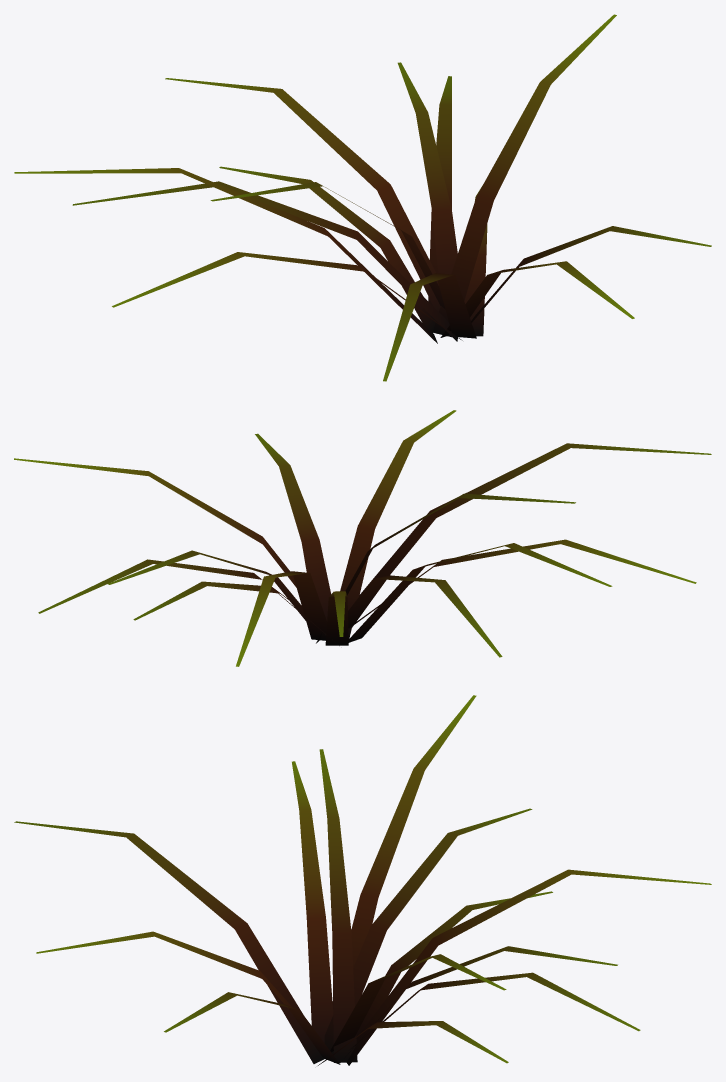
Rendered from grass_tuft_b.glb.
3 renders of one model, top to bottom at view 1: azimuth 30°, elevation 25°; view 2: azimuth 150°, elevation 25°; view 3: azimuth 270°, elevation 25°, orthographic. The views are drawn at different scales.
Parts seen in each view (by area): view 1: grass_tuft_b; view 2: grass_tuft_b; view 3: grass_tuft_b.
Part boxes in pixels (box(x1,y1,x2,y2)): grass_tuft_b: box(14, 14, 711, 381); grass_tuft_b: box(14, 410, 711, 666); grass_tuft_b: box(14, 695, 711, 1065).
Bounding box in the file's own units: 1.08 × 0.3329 × 1.1.
1 material, 1 textured.
